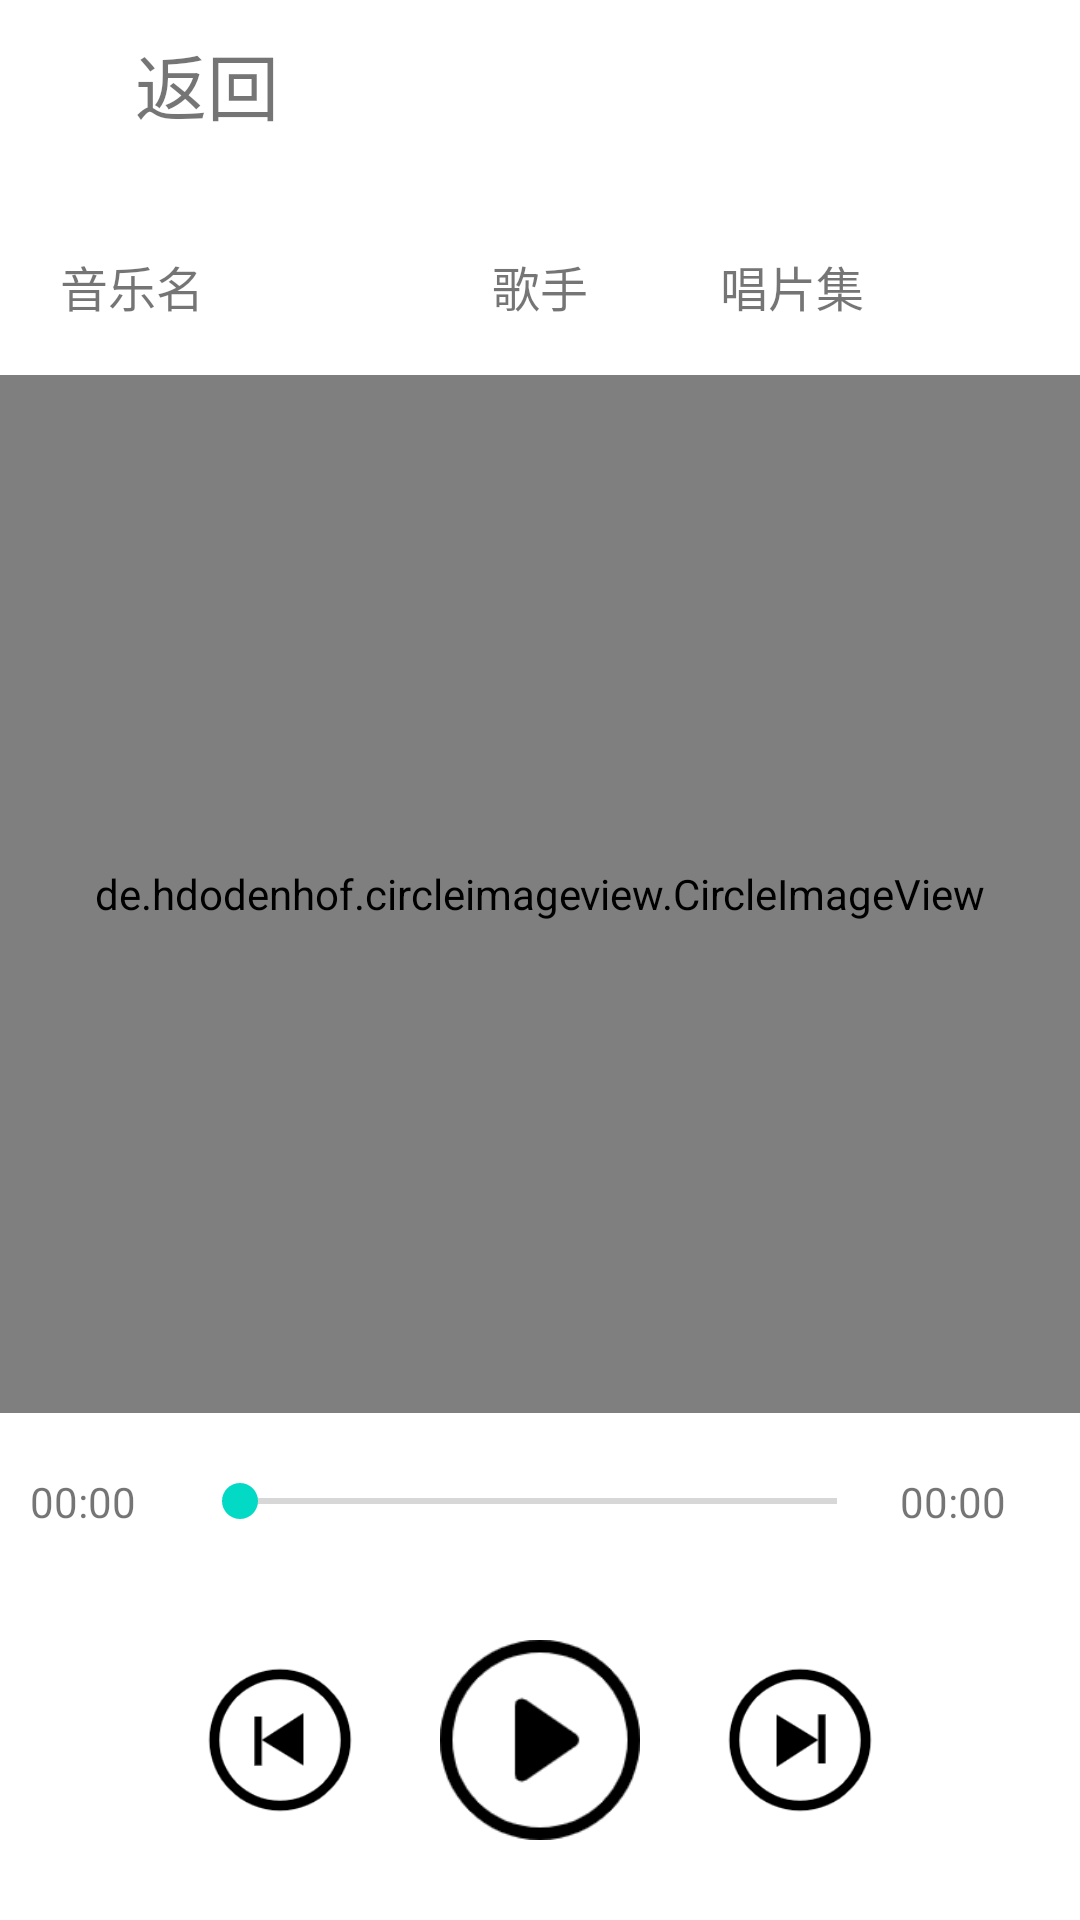

Screen size 1080px x 1920px. Icon name, then its box in pixels as (x1, y1, x2, y2):
next: (728, 1668, 872, 1812)
play: (440, 1640, 640, 1840)
previous: (208, 1668, 352, 1812)
